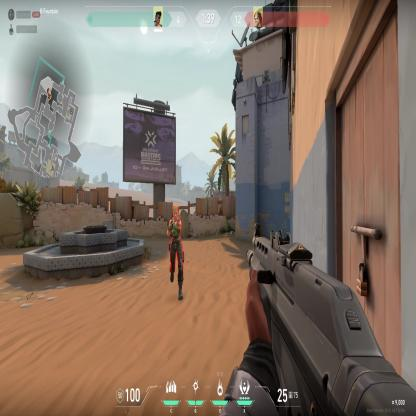enemy: (166, 202, 185, 301)
